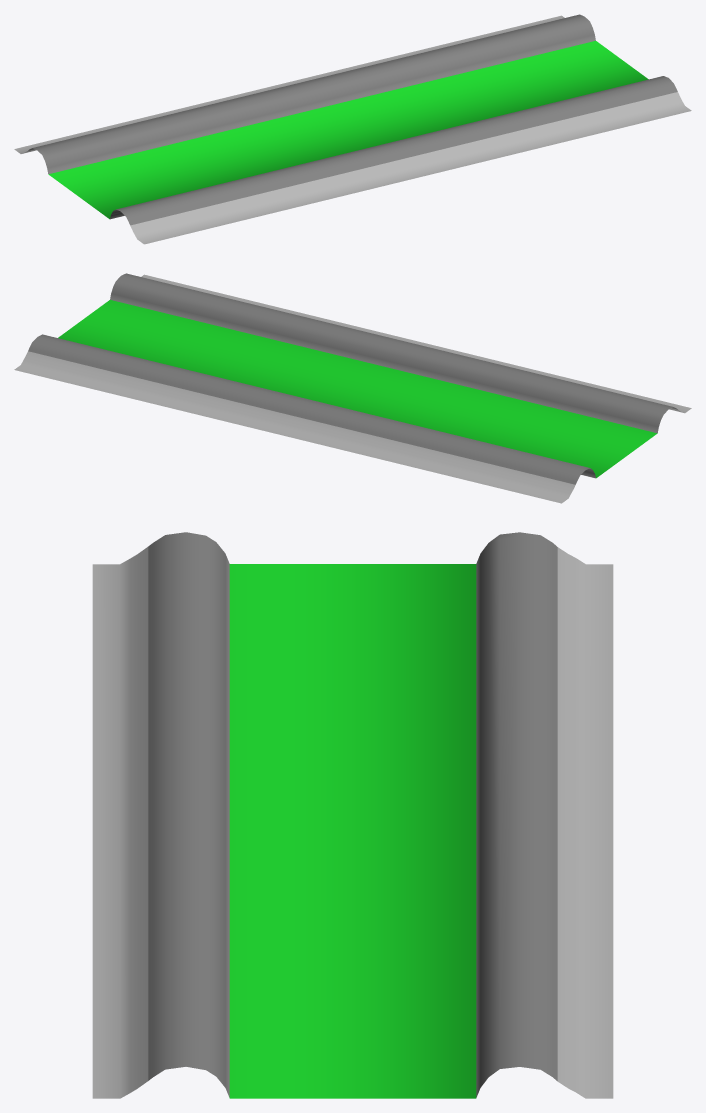
File: WorldPlane.fbx
The picture shows the model from 3 angles, top to bottom: view 1: azimuth 30°, elevation 25°; view 2: azimuth 150°, elevation 25°; view 3: azimuth 270°, elevation 25°; orthographic projection. The views are drawn at different scales.
Visible parts, largest first — view 1: LowPolly; view 2: LowPolly; view 3: LowPolly.
Part boxes in pixels (x1,y1,x2,y2): LowPolly: (14,14,691,244); LowPolly: (14,273,691,503); LowPolly: (92,532,613,1098).
Size of the model in its own units: 21842 by 609 by 8994.
